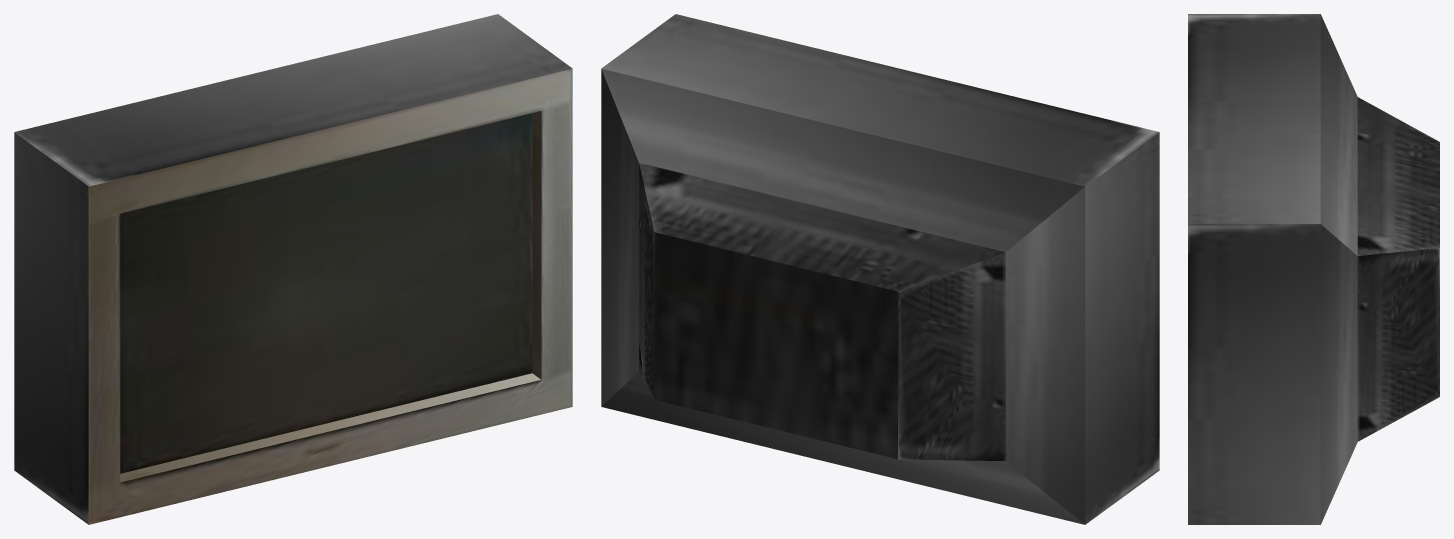
The model's file is vet_tv.FBX.
The picture shows the model from 3 angles, left to right: view 1: azimuth 30°, elevation 25°; view 2: azimuth 150°, elevation 25°; view 3: azimuth 270°, elevation 25°; orthographic projection. The views are drawn at different scales.
Visible parts, largest first — view 1: vet-tv; view 2: vet-tv; view 3: vet-tv.
Part boxes in pixels (bbox=[...]): vet-tv: bbox=[14, 14, 572, 524]; vet-tv: bbox=[601, 14, 1159, 524]; vet-tv: bbox=[1188, 14, 1439, 524].
Size of the model in its own units: 172 by 115 by 87.28.
